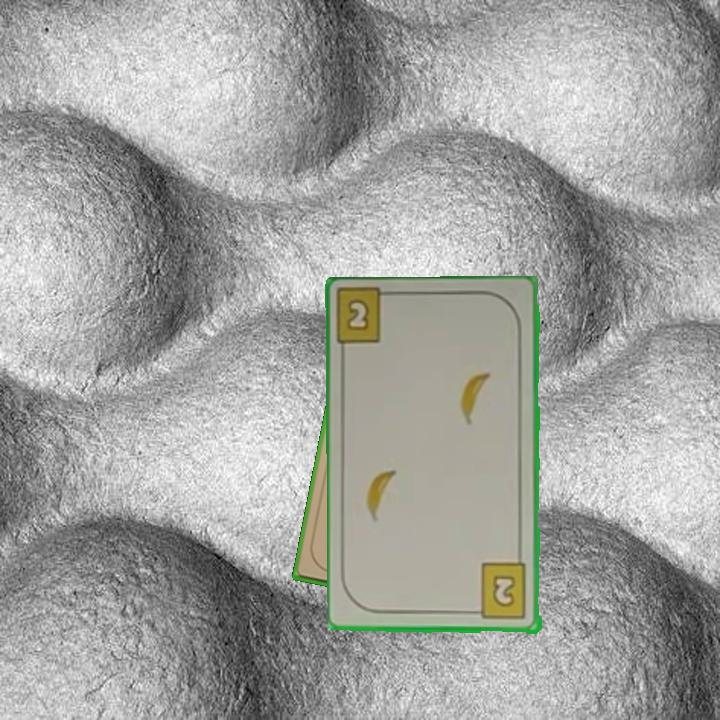2b: (468, 561, 529, 622), (343, 295, 372, 334)
